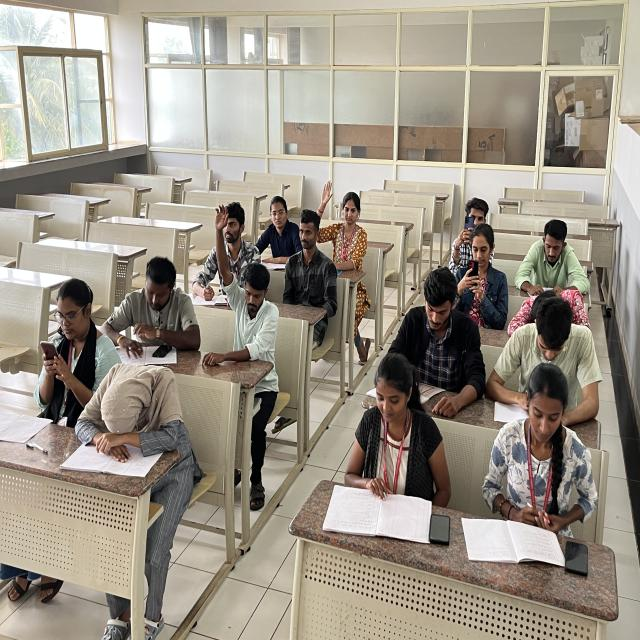Hand Rising: (211, 205, 282, 353), (313, 182, 367, 271)
Reading: (484, 360, 594, 542), (339, 360, 446, 527), (391, 261, 485, 411), (100, 249, 201, 359)
Sleeping: (76, 353, 200, 471)
Using Phone: (35, 270, 108, 416), (446, 222, 510, 309)
